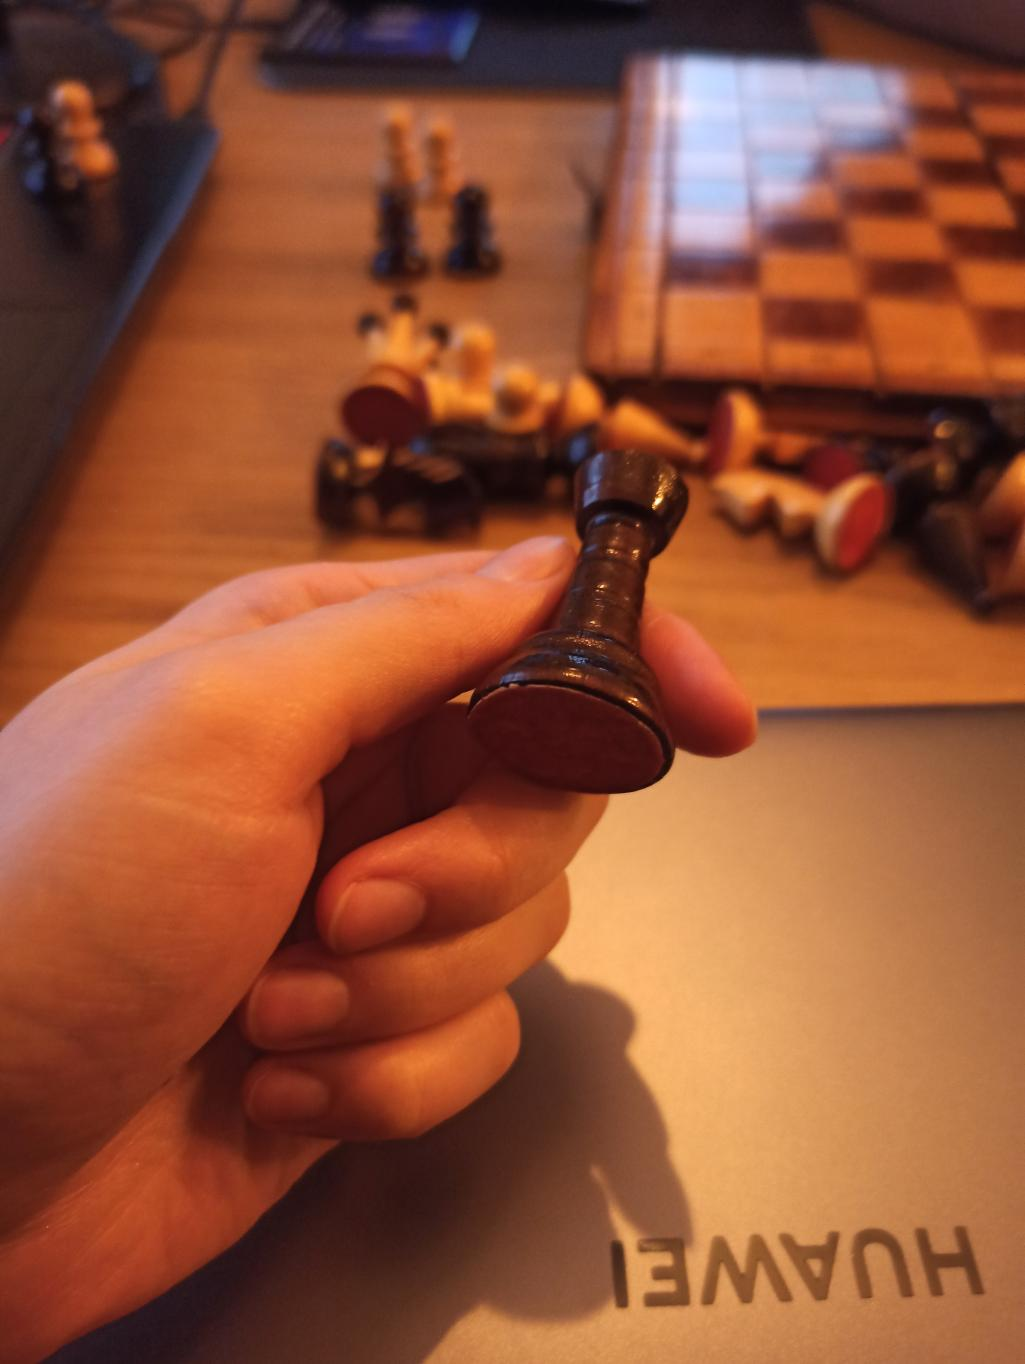brook: (467, 446, 696, 795)
